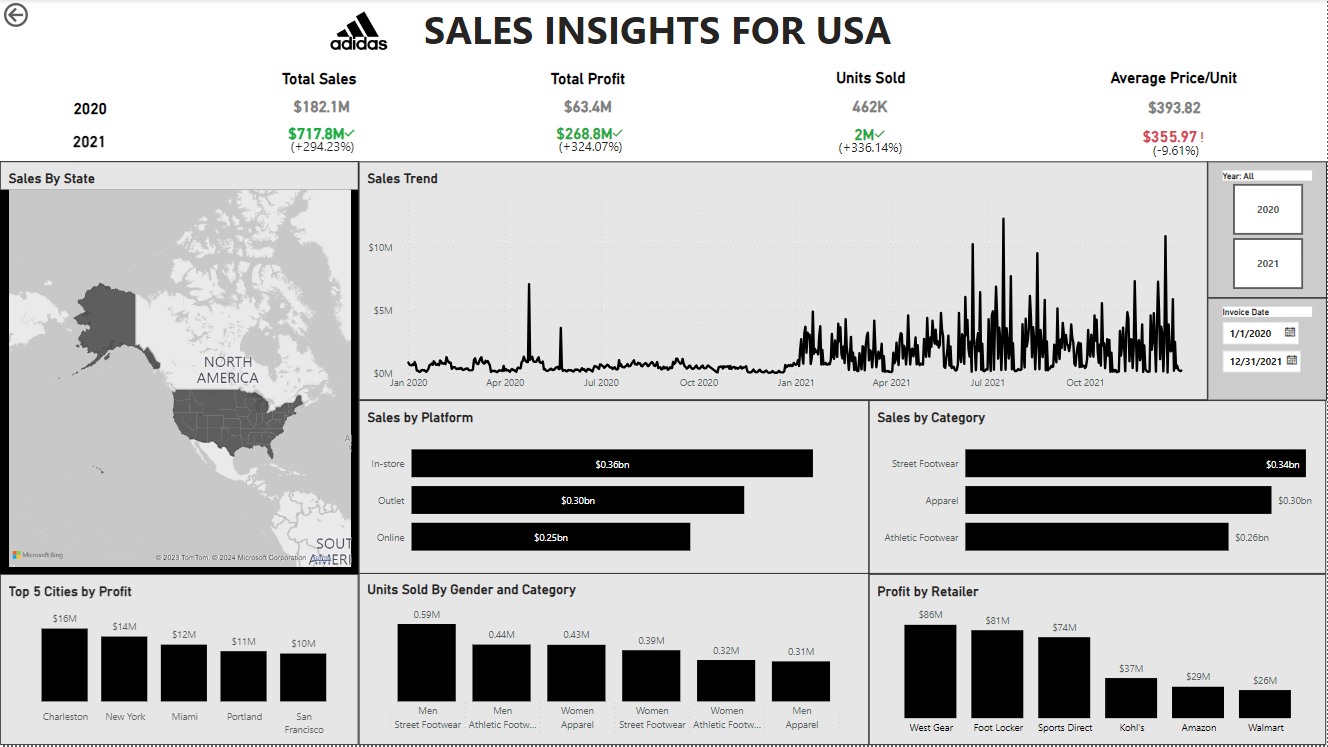

This screenshot's page, from the dashboard's own definition file:
{"tool":"powerbi","page":{"name":"V1","canvas":[1664,936],"ordinal":0},"visuals":[{"type":"textbox","box":[10,0,280,280],"z":0},{"type":"textbox","box":[0,0,1662.9,77.4],"z":1000},{"type":"card","fields":{"Values":["Sum(Sales_details.Total Sales)"]},"box":[0,76.8,467.2,127],"z":2000},{"type":"card","fields":{"Values":["Sum(Sales_details.Units Sold)"]},"box":[898.4,76.8,382.6,127],"z":3000},{"type":"card","fields":{"Values":["Sum(Sales_details.Operating Profit)"]},"box":[450,76.8,448.4,127],"z":4000},{"type":"card","fields":{"Values":["Sales_details.Average Price Per Unit"]},"box":[1280.9,76.8,384.1,127],"z":5000},{"type":"columnChart","title":"Profit by Retailer","fields":{"Category":["Sales_details.Retailer"],"Y":["Sum(Sales_details.Operating Profit)"]},"box":[1089.6,721.2,573.8,214.8],"z":6000},{"type":"actionButton","box":[0,0,100,40],"z":7000},{"type":"lineChart","title":"Sales Trend","fields":{"Y":["Sum(Sales_details.Total Sales)"],"Category":["Sales_details.Invoice Date.Variation.Date Hierarchy.Year","Sales_details.Invoice Date.Variation.Date Hierarchy.Quarter","Sales_details.Invoice Date.Variation.Date Hierarchy.Month","Sales_details.Invoice Date.Variation.Date Hierarchy.Day"]},"box":[450,203.8,1064.6,299.5],"z":8000},{"type":"barChart","title":"Sales by Category","fields":{"Y":["Sum(Sales_details.Total Sales)"],"Category":["Sales_details.Product Category"]},"box":[1089.6,503.3,573.8,217.9],"z":9000},{"type":"clusteredColumnChart","title":"Units Sold By Gender and Category","fields":{"Y":["Sum(Sales_details.Units Sold)"],"Category":["Sales_details.Product Category","Sales_details.Gender Type"]},"box":[450,719.6,639.7,216.4],"z":10000},{"type":"barChart","title":"Sales by Platform","fields":{"Category":["Sales_details.Sales Method"],"Series":["Sales_details.Sales Method"],"Y":["Sum(Sales_details.Total Sales)"]},"box":[450,503.3,639.7,217.9],"z":11000},{"type":"filledMap","title":"Sales By State","fields":{"Category":["Sales_details.State"]},"box":[0,203.8,450,517.4],"z":12000},{"type":"clusteredColumnChart","title":"Top 5 Cities by Profit","fields":{"Category":["Sales_details.City"],"Y":["Sum(Sales_details.Operating Profit)"]},"box":[0,721.2,450,214.8],"z":13000},{"type":"slicer","fields":{"Values":["Sales_details.Invoice Date"]},"box":[1514.5,374.6,149.8,128.4],"z":14000},{"type":"slicer","fields":{"Values":["Sales_details.Invoice Date.Variation.Date Hierarchy.Year"]},"box":[1514.5,203.4,149.8,171.3],"z":15000},{"type":"image","box":[385.7,11,128.6,58],"z":16000}]}

Visuals, with their boxes in screenshot pixels (x1, y1, x2, y2), scaled from the page's 1664x936 canvas onto the 1328x747 screenshot:
textbox: BBox(8, 0, 231, 223)
textbox: BBox(0, 0, 1327, 62)
card - Sum(Sales_details.Total Sales): BBox(0, 61, 373, 163)
card - Sum(Sales_details.Units Sold): BBox(717, 61, 1022, 163)
card - Sum(Sales_details.Operating Profit): BBox(359, 61, 717, 163)
card - Sales_details.Average Price Per Unit: BBox(1022, 61, 1327, 163)
"Profit by Retailer" columnChart: BBox(870, 576, 1327, 746)
actionButton: BBox(0, 0, 80, 32)
"Sales Trend" lineChart: BBox(359, 163, 1209, 402)
"Sales by Category" barChart: BBox(870, 402, 1327, 576)
"Units Sold By Gender and Category" clusteredColumnChart: BBox(359, 574, 870, 746)
"Sales by Platform" barChart: BBox(359, 402, 870, 576)
"Sales By State" filledMap: BBox(0, 163, 359, 576)
"Top 5 Cities by Profit" clusteredColumnChart: BBox(0, 576, 359, 746)
slicer - Sales_details.Invoice Date: BBox(1209, 299, 1327, 401)
slicer - Sales_details.Invoice Date.Variation.Date Hierarchy.Year: BBox(1209, 162, 1327, 299)
image: BBox(308, 9, 410, 55)
